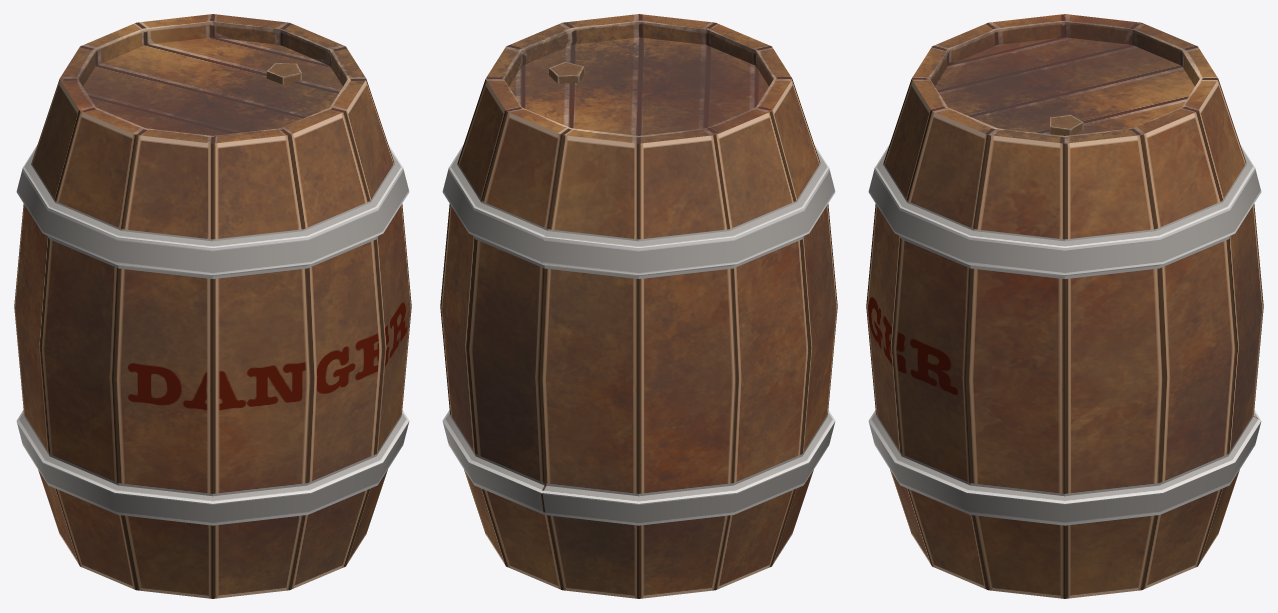
File: barrel.glb
The picture shows the model from 3 angles, left to right: view 1: azimuth 30°, elevation 25°; view 2: azimuth 150°, elevation 25°; view 3: azimuth 270°, elevation 25°; orthographic projection.
Parts seen in each view (by area): view 1: Barrel; view 2: Barrel; view 3: Barrel.
Part boxes in pixels (x1,y1,x2,y2): Barrel: [14, 14, 411, 598]; Barrel: [440, 14, 837, 598]; Barrel: [866, 14, 1263, 598].
Bounding box in the file's own units: 0.7122 × 0.9 × 0.7122.
1 material, 1 textured.
